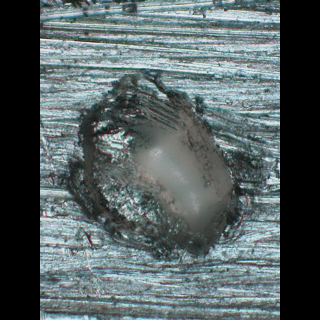d: (64, 59, 266, 270)
